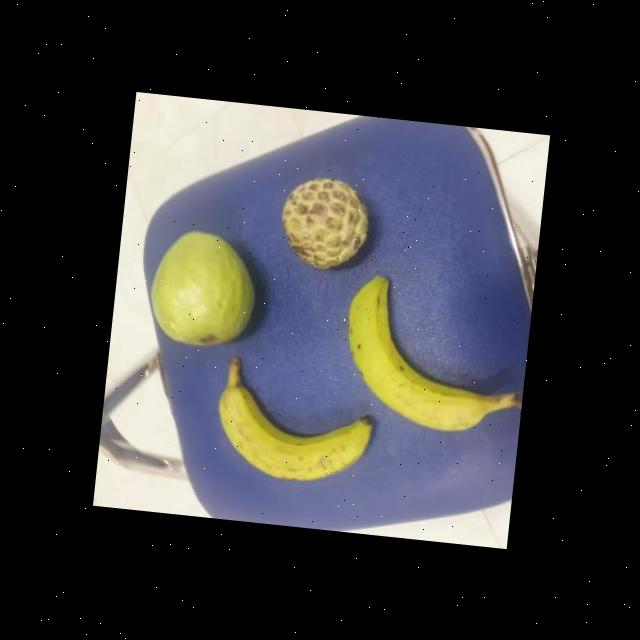Sakya fruit: (276, 168, 373, 272)
banana: (338, 262, 516, 433), (206, 354, 376, 486)
guava: (142, 224, 261, 349)
